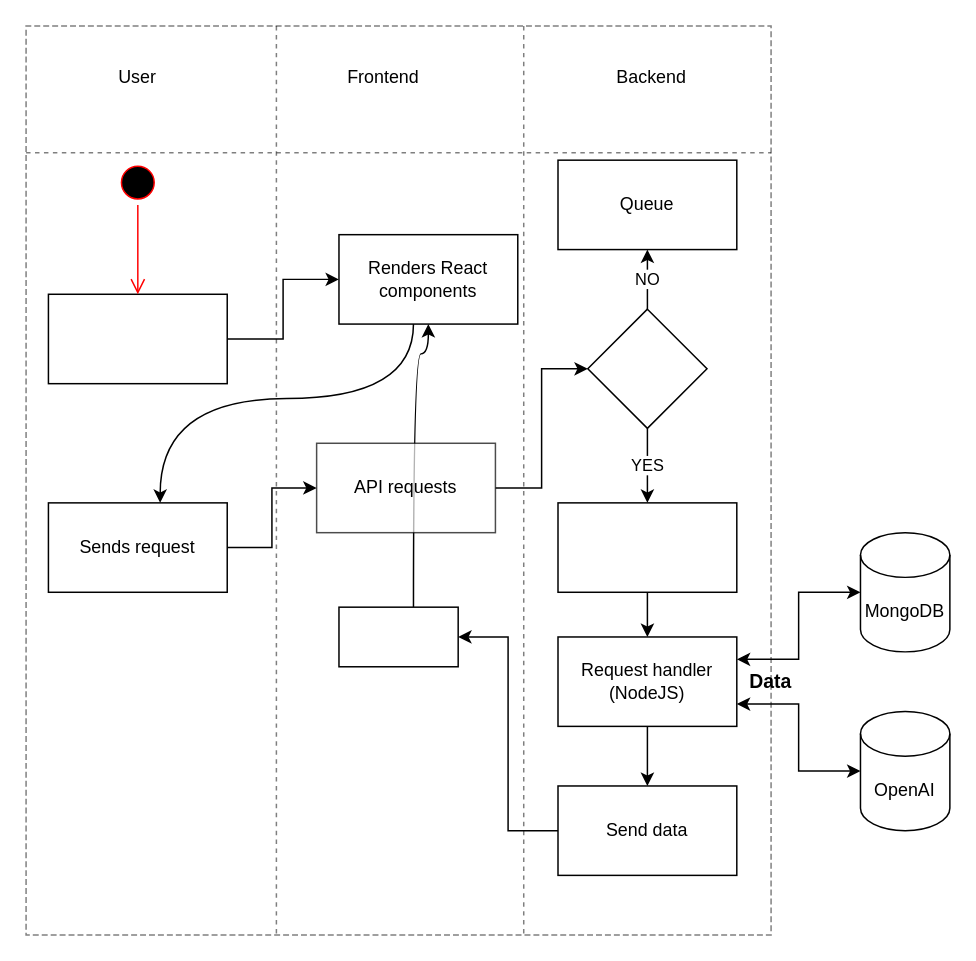
Some shapes in this 976 by 961 pixel diagram are drawn without their labels. Here are the shapes that lost their labels. From the top down, the box of each, then its label:
(47, 293, 227, 384): Access website via browser
(586, 308, 707, 428): Queue Empty ?
(557, 501, 737, 592): Route requests
(337, 606, 458, 667): Update DOM
